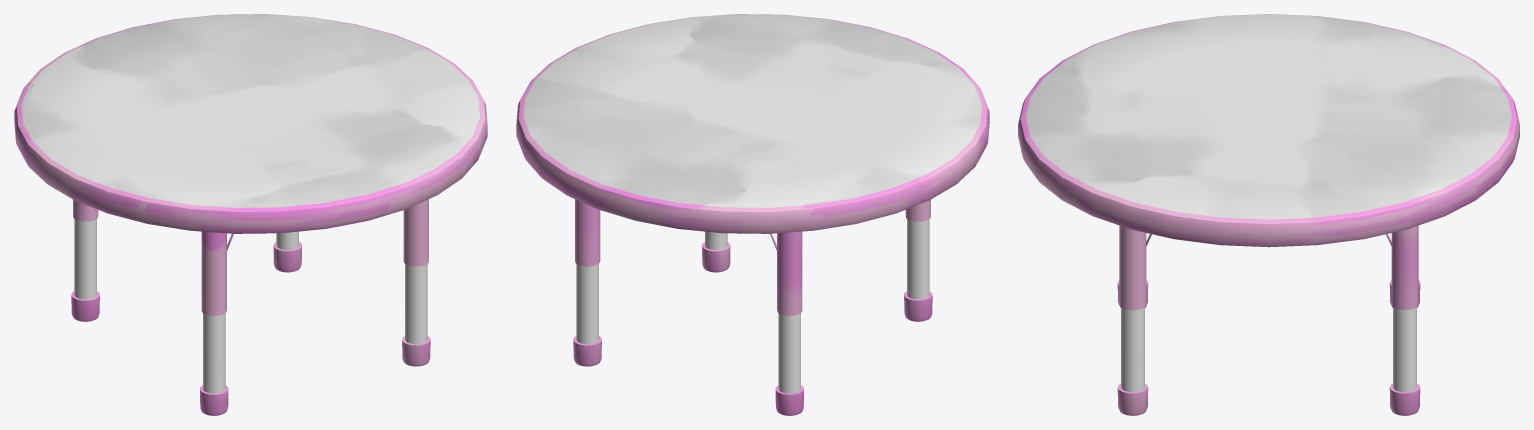
The model's file is children_table.fbx.
The picture shows the model from 3 angles, left to right: view 1: azimuth 30°, elevation 25°; view 2: azimuth 150°, elevation 25°; view 3: azimuth 270°, elevation 25°; orthographic projection. The views are drawn at different scales.
Parts seen in each view (by area): view 1: Cylinder, Cylinder.001; view 2: Cylinder, Cylinder.001; view 3: Cylinder, Cylinder.001.
Boxes of the visible parts, bbox=[...] form: Cylinder: bbox=[14, 14, 487, 233]; Cylinder.001: bbox=[71, 199, 430, 415]; Cylinder: bbox=[516, 14, 989, 233]; Cylinder.001: bbox=[573, 199, 932, 415]; Cylinder: bbox=[1018, 14, 1519, 247]; Cylinder.001: bbox=[1117, 225, 1420, 415].
Size of the model in its own units: 3.93 by 2.09 by 3.93.
3 materials, 2 textured.
